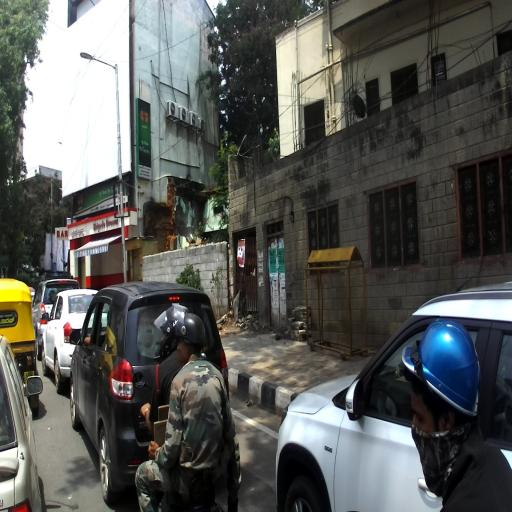street_light_0: (79, 52, 119, 71)
